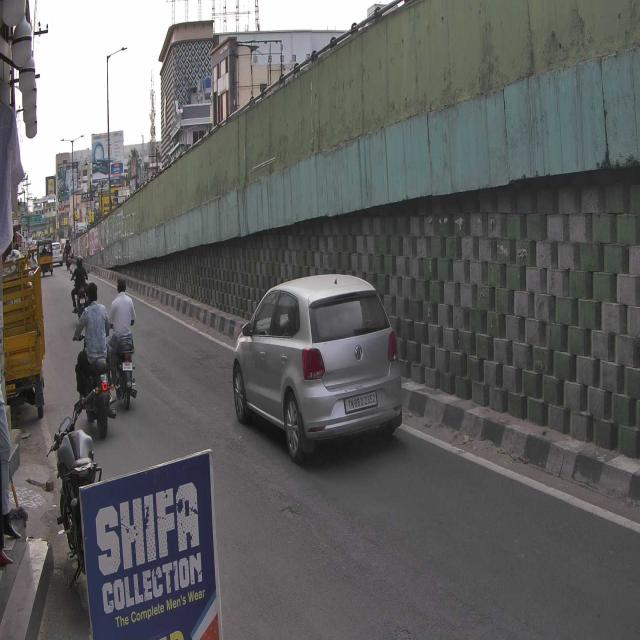single_rider: (72, 281, 116, 438)
